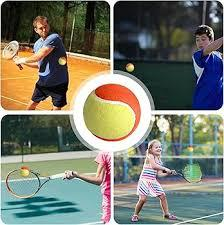ball_tennis: (83, 83, 141, 142), (19, 165, 30, 178), (125, 62, 135, 73), (57, 56, 67, 66), (188, 146, 195, 153)
